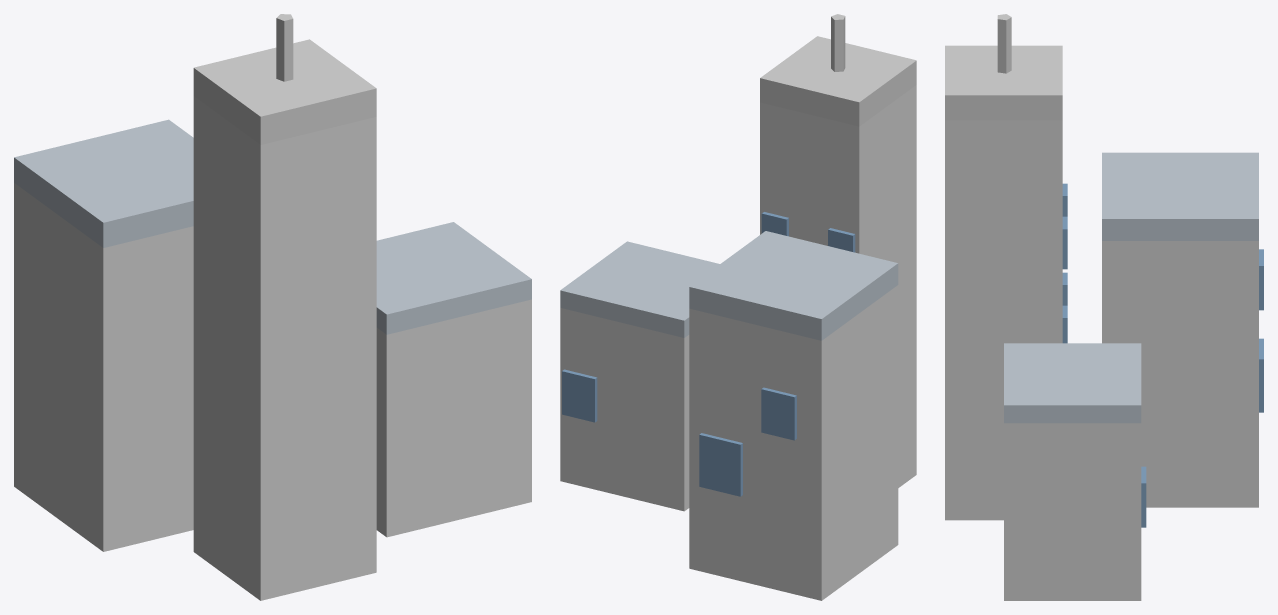
The model's file is building_city.glb.
3 renders of one model, left to right at view 1: azimuth 30°, elevation 25°; view 2: azimuth 150°, elevation 25°; view 3: azimuth 270°, elevation 25°, orthographic. The views are drawn at different scales.
Visible parts, largest first — view 1: building_city; view 2: building_city; view 3: building_city.
Part boxes in pixels (x1,y1,x2,y2): building_city: (14,14,531,600); building_city: (560,14,916,600); building_city: (945,14,1263,600).
Bounding box in the file's own units: 0.385 × 0.538 × 0.325.
